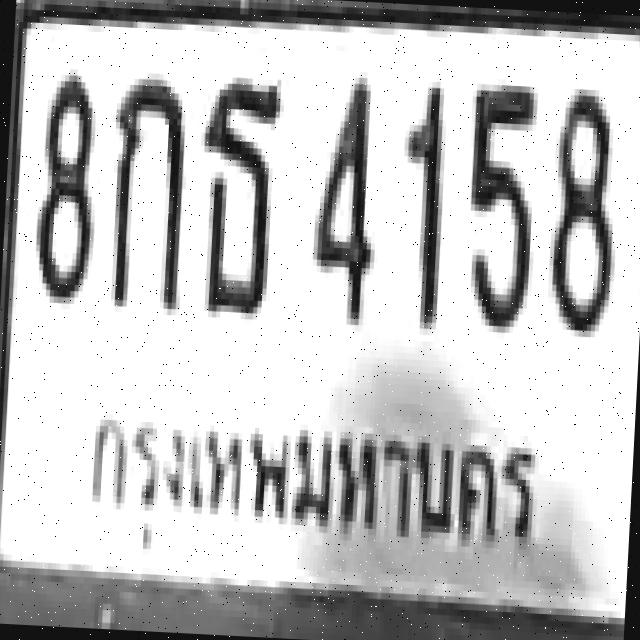1: (396, 80, 445, 323)
10GorGai: (102, 71, 188, 309)
33ThorThong: (192, 72, 282, 318)
4: (306, 70, 380, 320)
5: (461, 78, 538, 328)
8: (546, 82, 620, 332), (30, 68, 99, 298)
Bangkok: (71, 380, 552, 582)
